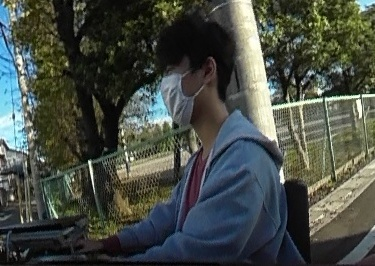person: (149, 13, 285, 266)
